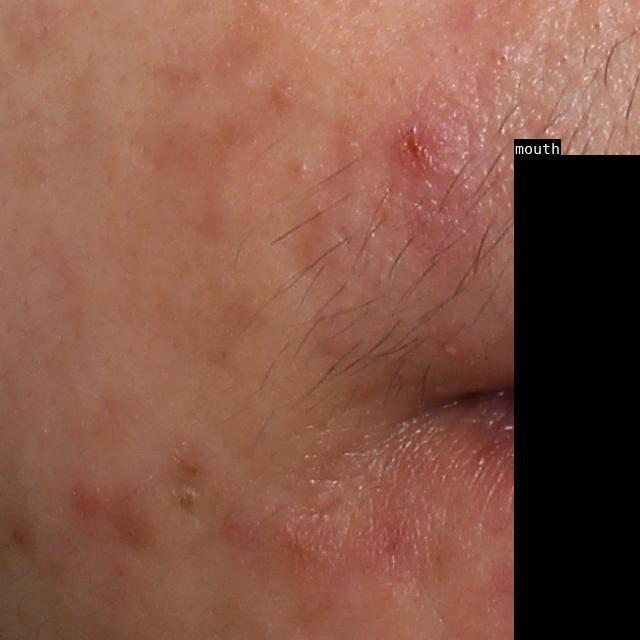comedo: (491, 45, 513, 68), (291, 160, 310, 181), (588, 18, 606, 35)
papule: (388, 108, 478, 202), (271, 520, 339, 580)
